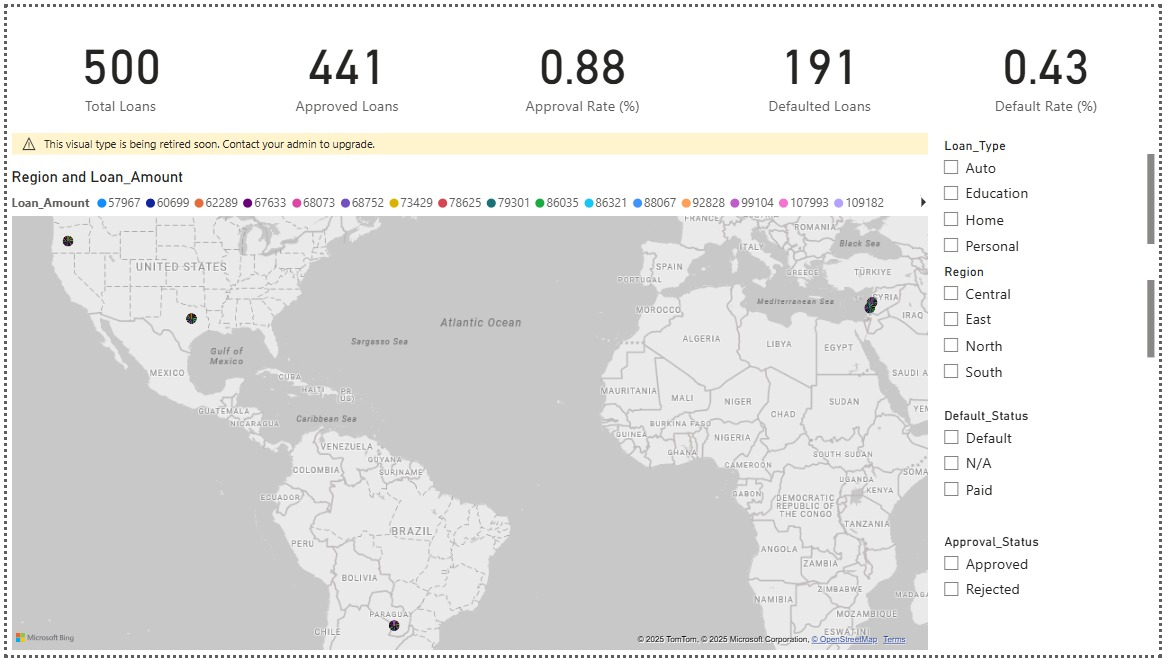

What the dashboard file says about the page in this screenshot:
{"tool":"powerbi","page":{"name":"Page 3","canvas":[1280,720],"ordinal":2},"visuals":[{"type":"card","fields":{"Values":["Loan Metrics.Total Loans"]},"box":[0,0,251.7,140],"z":0},{"type":"card","fields":{"Values":["Loan Metrics.Approved Loans"]},"box":[251.7,0,251.7,140],"z":1},{"type":"card","fields":{"Values":["Risk Metrics.Default Rate (%)"]},"box":[1028.3,0,251.7,140],"z":2},{"type":"card","fields":{"Values":["Risk Metrics.Defaulted Loans"]},"box":[776.7,0,251.7,140],"z":3},{"type":"card","fields":{"Values":["Loan Metrics.Approval Rate (%)"]},"box":[513.3,0,251.7,140],"z":4},{"type":"map","fields":{"Category":["Bank_Loan_Performance.Region"],"Series":["Bank_Loan_Performance.Loan_Amount"]},"box":[0,140,1028.3,580],"z":5},{"type":"slicer","fields":{"Values":["Bank_Loan_Performance.Approval_Status"]},"box":[1028.3,580,251.7,140],"z":6},{"type":"slicer","fields":{"Values":["Bank_Loan_Performance.Region"]},"box":[1028.3,280,251.7,140],"z":7},{"type":"slicer","fields":{"Values":["Bank_Loan_Performance.Default_Status"]},"box":[1028.3,440,251.7,140],"z":8},{"type":"slicer","fields":{"Values":["Bank_Loan_Performance.Loan_Type"]},"box":[1028.3,140,251.7,140],"z":9}]}

Visuals, with their boxes in screenshot pixels (x1, y1, x2, y2), scaled from the page's 1280x720 canvas onto the 1169x660 screenshot:
card - Loan Metrics.Total Loans: (left=0, top=0, right=230, bottom=128)
card - Loan Metrics.Approved Loans: (left=230, top=0, right=460, bottom=128)
card - Risk Metrics.Default Rate (%): (left=939, top=0, right=1168, bottom=128)
card - Risk Metrics.Defaulted Loans: (left=709, top=0, right=939, bottom=128)
card - Loan Metrics.Approval Rate (%): (left=469, top=0, right=699, bottom=128)
map - Bank_Loan_Performance.Region x Bank_Loan_Performance.Loan_Amount: (left=0, top=128, right=939, bottom=659)
slicer - Bank_Loan_Performance.Approval_Status: (left=939, top=532, right=1168, bottom=659)
slicer - Bank_Loan_Performance.Region: (left=939, top=257, right=1168, bottom=385)
slicer - Bank_Loan_Performance.Default_Status: (left=939, top=403, right=1168, bottom=532)
slicer - Bank_Loan_Performance.Loan_Type: (left=939, top=128, right=1168, bottom=257)
